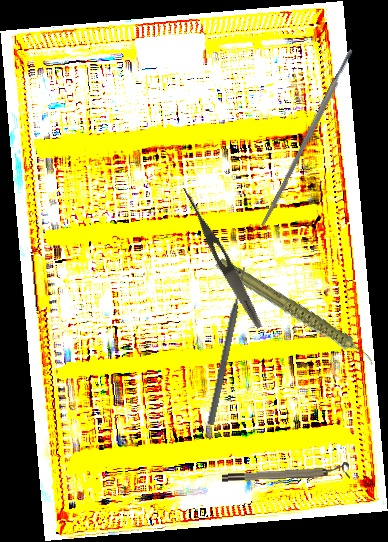Dressing Forceps: (176, 185, 267, 331)
Fixation Ring: (221, 462, 350, 484)
Handpiece: (213, 230, 377, 397)
Pusher: (205, 266, 250, 426)
Scalpel Handle: (259, 48, 356, 228)
